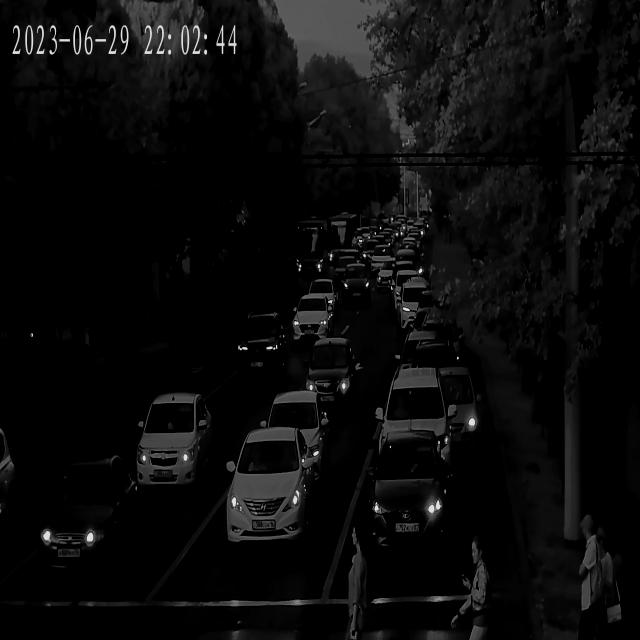Bus: (289, 221, 339, 277), (327, 214, 362, 256)
Car: (39, 457, 137, 576), (362, 434, 448, 558), (228, 432, 313, 553), (379, 361, 477, 462), (134, 392, 216, 495), (247, 395, 330, 495), (305, 338, 361, 410), (230, 314, 286, 382), (400, 342, 460, 388), (410, 315, 463, 363), (394, 286, 442, 338), (0, 417, 17, 558), (288, 296, 334, 344), (388, 270, 428, 310), (301, 279, 341, 318), (336, 266, 372, 305), (378, 264, 412, 294), (295, 256, 325, 280), (370, 252, 397, 275), (336, 250, 363, 271), (364, 238, 389, 259), (396, 241, 419, 258)
